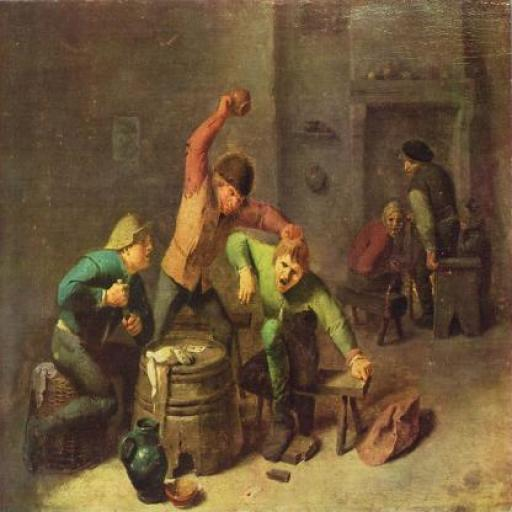Fighting: (50, 82, 430, 481)
